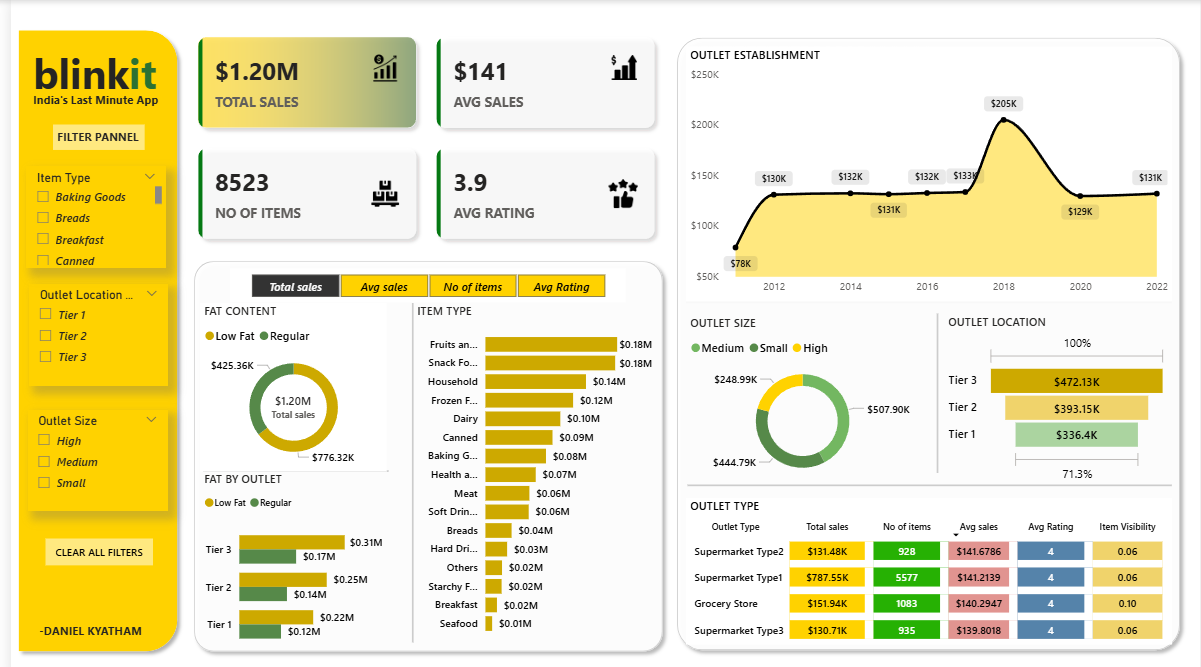

The page's visual inventory and layout, read from the dashboard file:
{"tool":"powerbi","page":{"name":"Page 1","canvas":[1400,800],"ordinal":0},"visuals":[{"type":"shape","box":[206,298,570,478],"z":0},{"type":"shape","box":[794.8,325.9,572.4,62.1],"z":500},{"type":"shape","box":[0,26.7,205,750],"z":1000},{"type":"shape","box":[775.9,36.2,610.3,739.7],"z":1250},{"type":"shape","box":[796.6,541.4,570.7,62.1],"z":1500},{"type":"shape","box":[225.9,524.1,219,60.3],"z":1750},{"type":"textbox","box":[20.7,47.5,163.3,90.9],"z":2000},{"type":"shape","box":[453.3,356.7,38.3,400],"z":2500},{"type":"shape","box":[1069,369,44.8,187.9],"z":2750},{"type":"textbox","box":[21.7,103.3,160,36.7],"z":3000},{"type":"cardVisual","fields":{"Data":["BlinkIT Grocery Data.Total sales","BlinkIT Grocery Data.Avg sales","BlinkIT Grocery Data.No of items","BlinkIT Grocery Data.Avg Rating"]},"box":[204,26,572,272],"z":4000},{"type":"textbox","box":[28.6,728.6,146.4,28.6],"z":5000},{"type":"donutChart","title":"FAT CONTENT","fields":{"Y":["BlinkIT Grocery Data.Total sales"],"Category":["BlinkIT Grocery Data.Item Fat Content"]},"box":[223.3,356.7,220,198.3],"z":6000},{"type":"slicer","fields":{"Values":["Parameter.Parameter"]},"box":[258,316,466,40],"z":7000},{"type":"cardVisual","fields":{"Data":["BlinkIT Grocery Data.Total sales"]},"box":[277.5,445.8,110.8,64.2],"z":8000},{"type":"clusteredBarChart","title":"FAT BY OUTLET","fields":{"Y":["BlinkIT Grocery Data.Total sales"],"Category":["BlinkIT Grocery Data.Outlet Location Type"],"Series":["BlinkIT Grocery Data.Item Fat Content"]},"box":[223.3,555,220,221.7],"z":9000},{"type":"barChart","title":"ITEM TYPE","fields":{"Y":["BlinkIT Grocery Data.Total sales"],"Category":["BlinkIT Grocery Data.Item Type"]},"box":[473.3,356.7,286.7,400],"z":12000},{"type":"lineChart","title":"OUTLET ESTABLISHMENT","fields":{"Category":["BlinkIT Grocery Data.Outlet Establishment Year"],"Y":["BlinkIT Grocery Data.Total sales"]},"box":[794.8,55.2,572.4,300],"z":14000},{"type":"donutChart","title":"OUTLET SIZE","fields":{"Y":["BlinkIT Grocery Data.Total sales"],"Category":["BlinkIT Grocery Data.Outlet Size"]},"box":[794.8,370.7,274.1,201.7],"z":16000},{"type":"funnel","title":"OUTLET LOCATION","fields":{"Y":["Sum(BlinkIT Grocery Data.Sales)"],"Category":["BlinkIT Grocery Data.Outlet Location Type"]},"box":[1100,369,267.2,203.4],"z":18000},{"type":"pivotTable","title":"OUTLET TYPE","fields":{"Rows":["BlinkIT Grocery Data.Outlet Type"],"Values":["BlinkIT Grocery Data.Total sales","BlinkIT Grocery Data.No of items","BlinkIT Grocery Data.Avg sales","BlinkIT Grocery Data.Avg Rating","Avg(BlinkIT Grocery Data.Item Visibility)"]},"box":[794.8,586.2,572.4,172.4],"z":20000},{"type":"slicer","fields":{"Values":["BlinkIT Grocery Data.Outlet Location Type"]},"box":[20.7,334.5,163.8,120.7],"z":21000},{"type":"slicer","fields":{"Values":["BlinkIT Grocery Data.Outlet Size"]},"box":[20,483.3,165,120],"z":22000},{"type":"slicer","fields":{"Values":["BlinkIT Grocery Data.Item Type"]},"box":[18.3,196.7,165,120],"z":23000},{"type":"textbox","box":[48.9,146.7,107.8,30],"z":24000},{"type":"actionButton","box":[40,635,126.7,31.7],"z":25000}]}

Visuals, with their boxes in screenshot pixels (x1, y1, x2, y2), scaled from the page's 1400x800 canvas onto the 1201x667 screenshot:
shape: [x1=177, y1=248, x2=666, y2=647]
shape: [x1=682, y1=272, x2=1173, y2=323]
shape: [x1=0, y1=22, x2=176, y2=648]
shape: [x1=666, y1=30, x2=1189, y2=647]
shape: [x1=683, y1=451, x2=1173, y2=503]
shape: [x1=194, y1=437, x2=382, y2=487]
textbox: [x1=18, y1=40, x2=158, y2=115]
shape: [x1=389, y1=297, x2=422, y2=631]
shape: [x1=917, y1=308, x2=955, y2=464]
textbox: [x1=19, y1=86, x2=156, y2=117]
cardVisual - BlinkIT Grocery Data.Total sales x BlinkIT Grocery Data.Avg sales: [x1=175, y1=22, x2=666, y2=248]
textbox: [x1=25, y1=607, x2=150, y2=631]
"FAT CONTENT" donutChart: [x1=192, y1=297, x2=380, y2=463]
slicer - Parameter.Parameter: [x1=221, y1=263, x2=621, y2=297]
cardVisual - BlinkIT Grocery Data.Total sales: [x1=238, y1=372, x2=333, y2=425]
"FAT BY OUTLET" clusteredBarChart: [x1=192, y1=463, x2=380, y2=648]
"ITEM TYPE" barChart: [x1=406, y1=297, x2=652, y2=631]
"OUTLET ESTABLISHMENT" lineChart: [x1=682, y1=46, x2=1173, y2=296]
"OUTLET SIZE" donutChart: [x1=682, y1=309, x2=917, y2=477]
"OUTLET LOCATION" funnel: [x1=944, y1=308, x2=1173, y2=477]
"OUTLET TYPE" pivotTable: [x1=682, y1=489, x2=1173, y2=632]
slicer - BlinkIT Grocery Data.Outlet Location Type: [x1=18, y1=279, x2=158, y2=380]
slicer - BlinkIT Grocery Data.Outlet Size: [x1=17, y1=403, x2=159, y2=503]
slicer - BlinkIT Grocery Data.Item Type: [x1=16, y1=164, x2=157, y2=264]
textbox: [x1=42, y1=122, x2=134, y2=147]
actionButton: [x1=34, y1=529, x2=143, y2=556]
